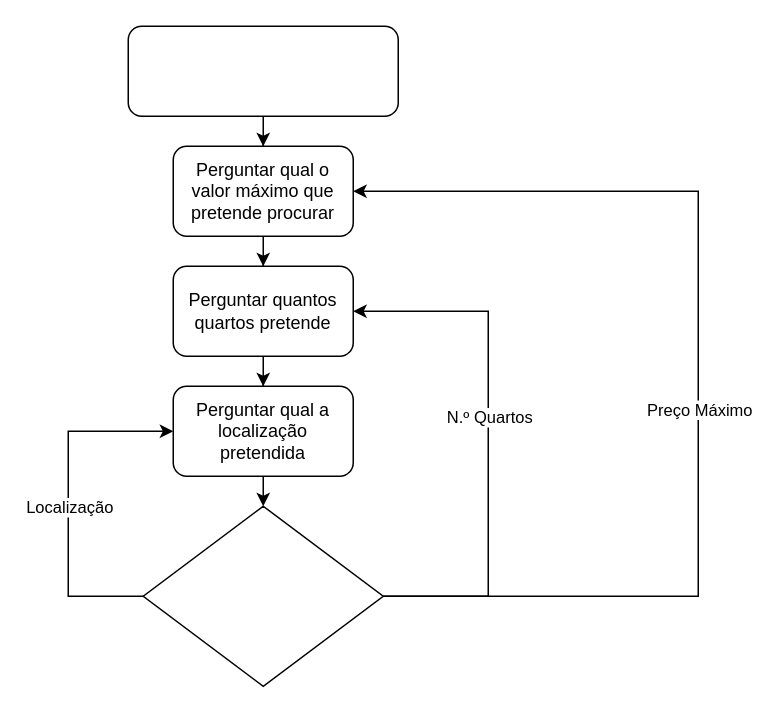
Image size: 782x713. Some labels were removed from this diagram. The shapes that lost their labels are listed below. From the top down, each one's centre as x and y in pixels, then its label:
At point (262, 70): "Perguntar se utilizador quer arrendar ou comprar uma casa".
At point (262, 595): "Existe algum dado que o utilizador queira alterar?".
